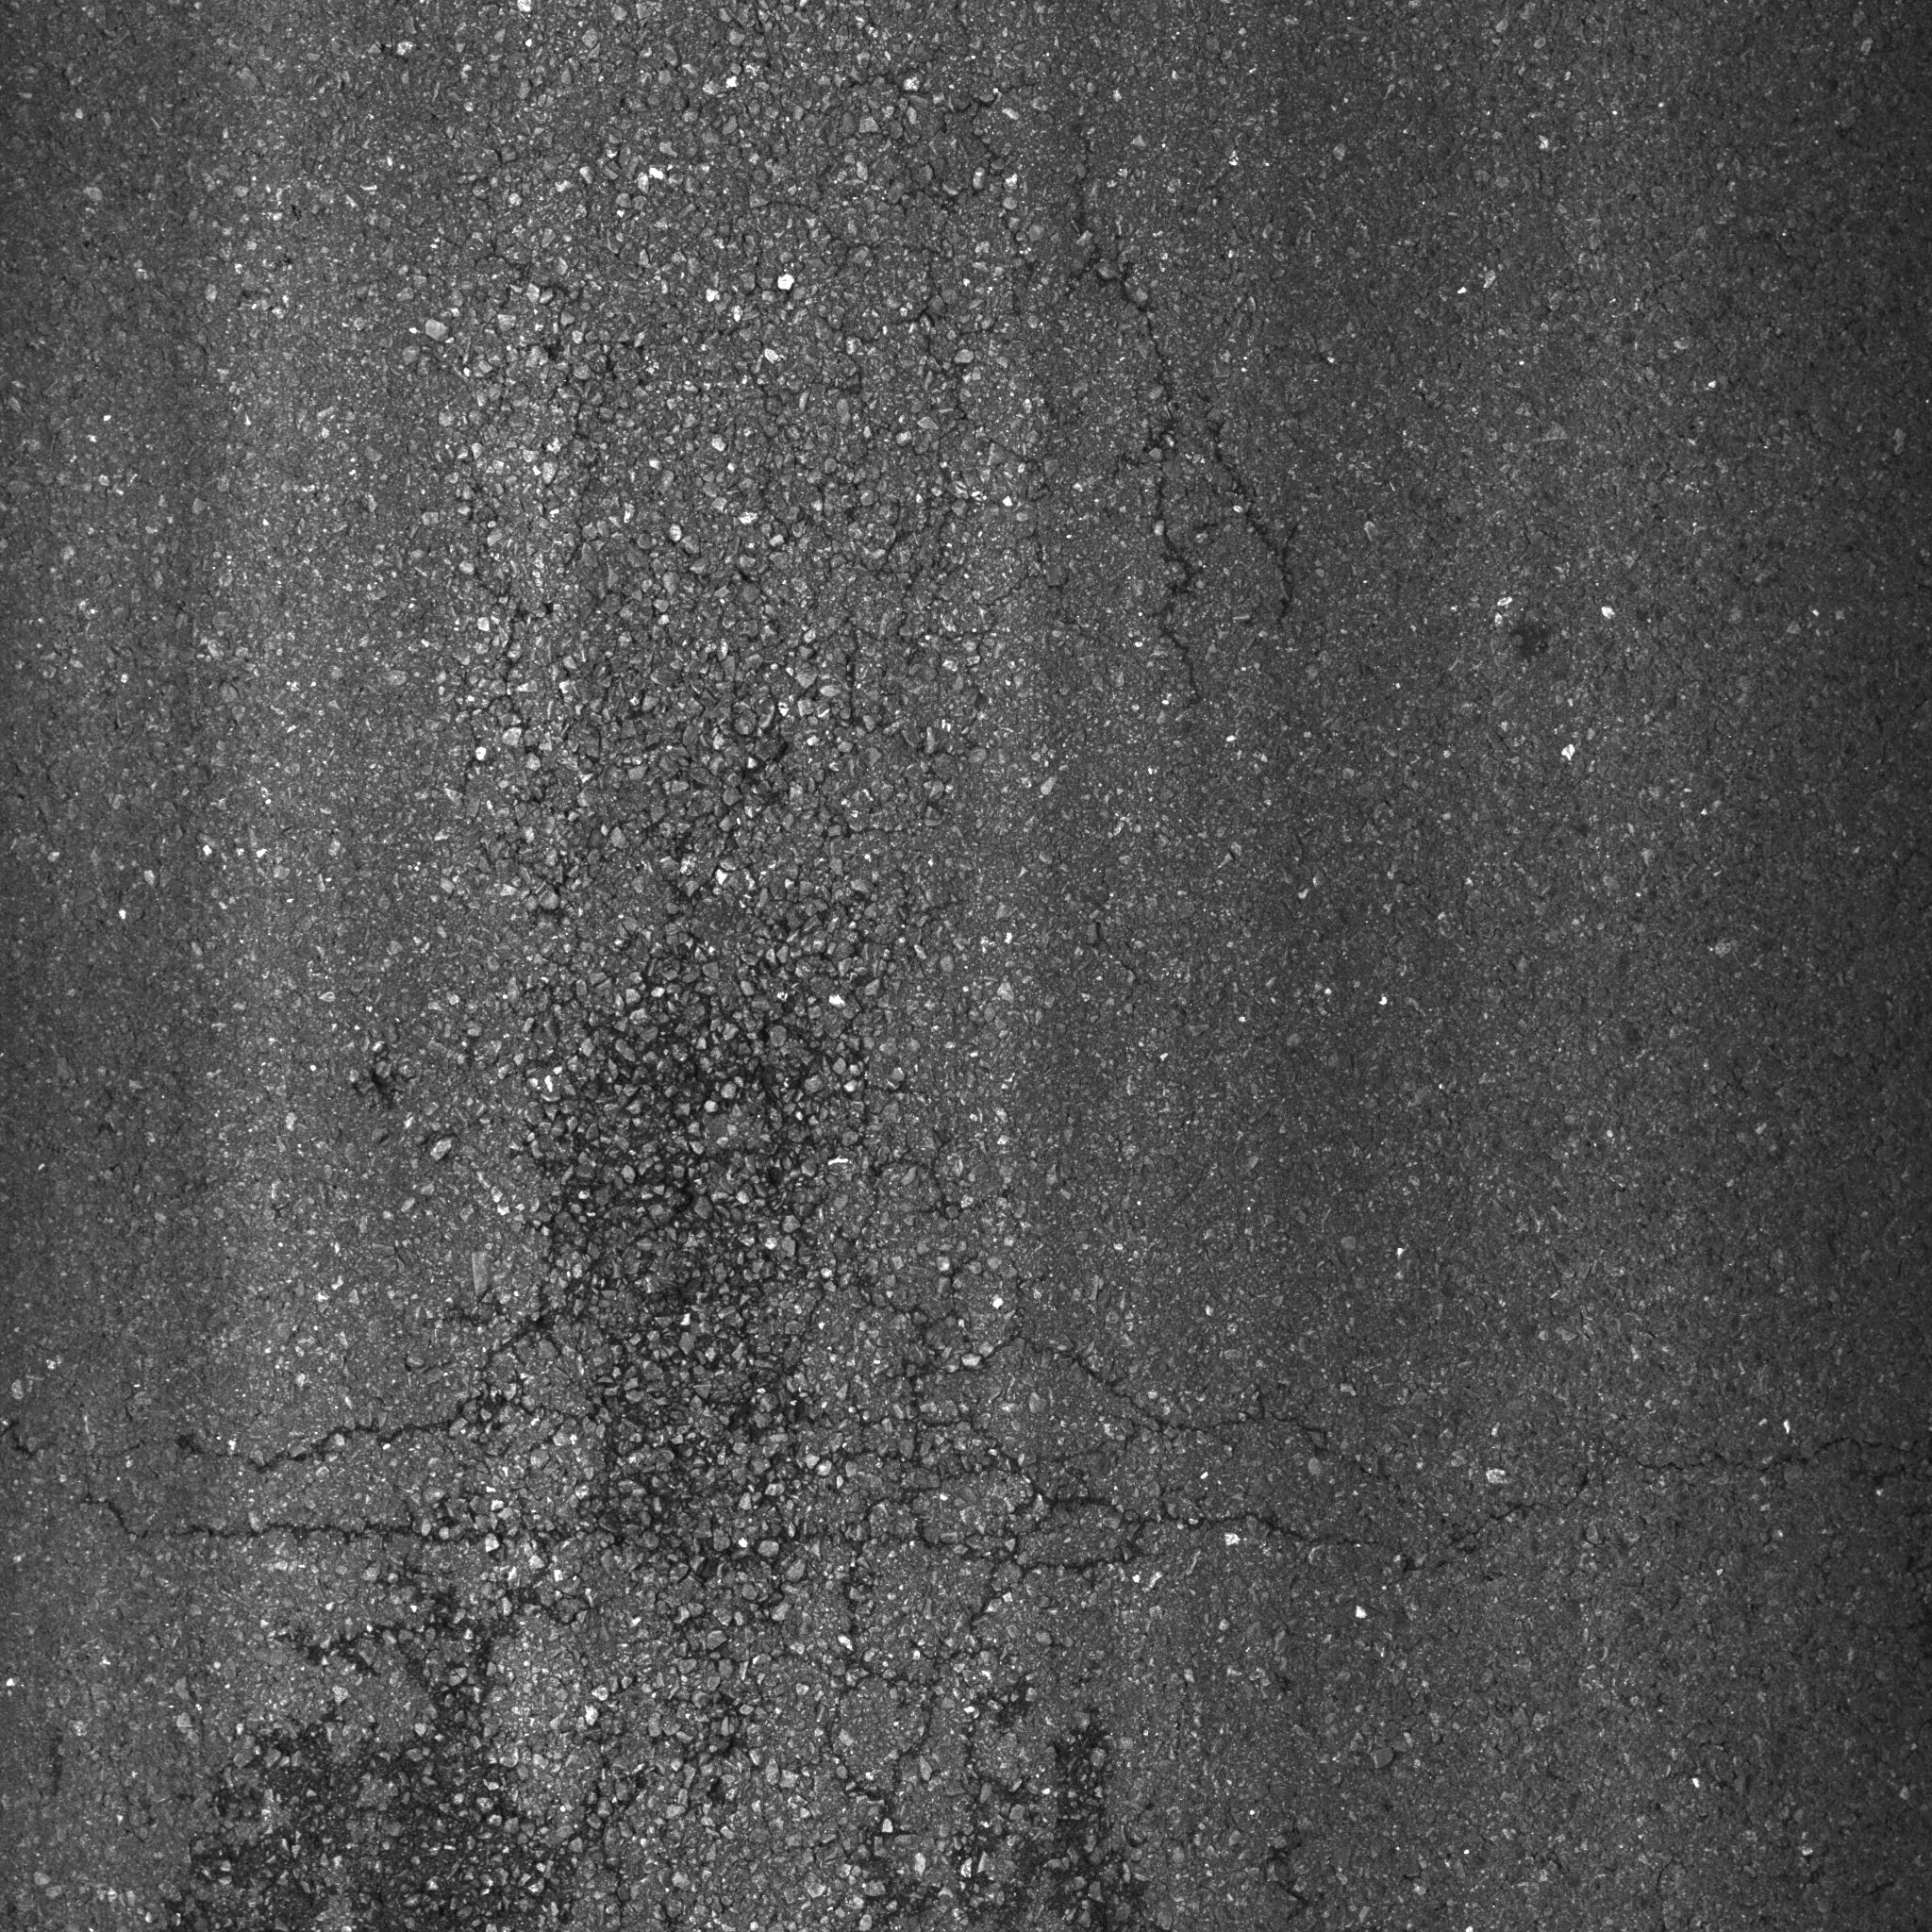alligator: (87, 892, 1585, 1932)
